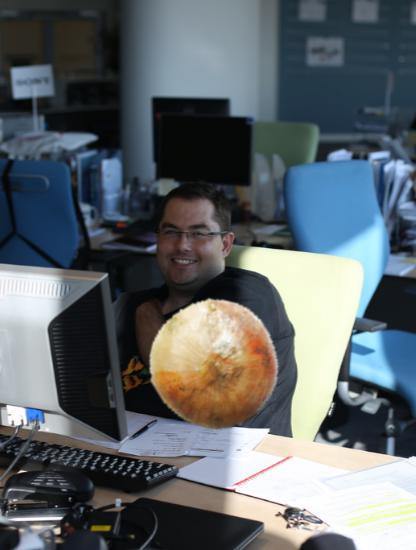Onion: (148, 298, 281, 431)
